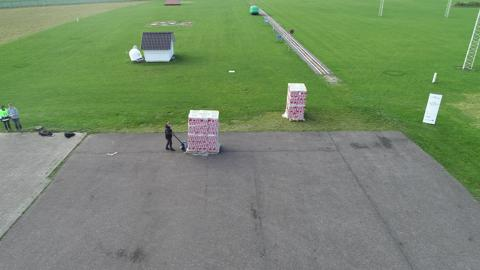RockwoolPallet: (284, 82, 306, 122)
